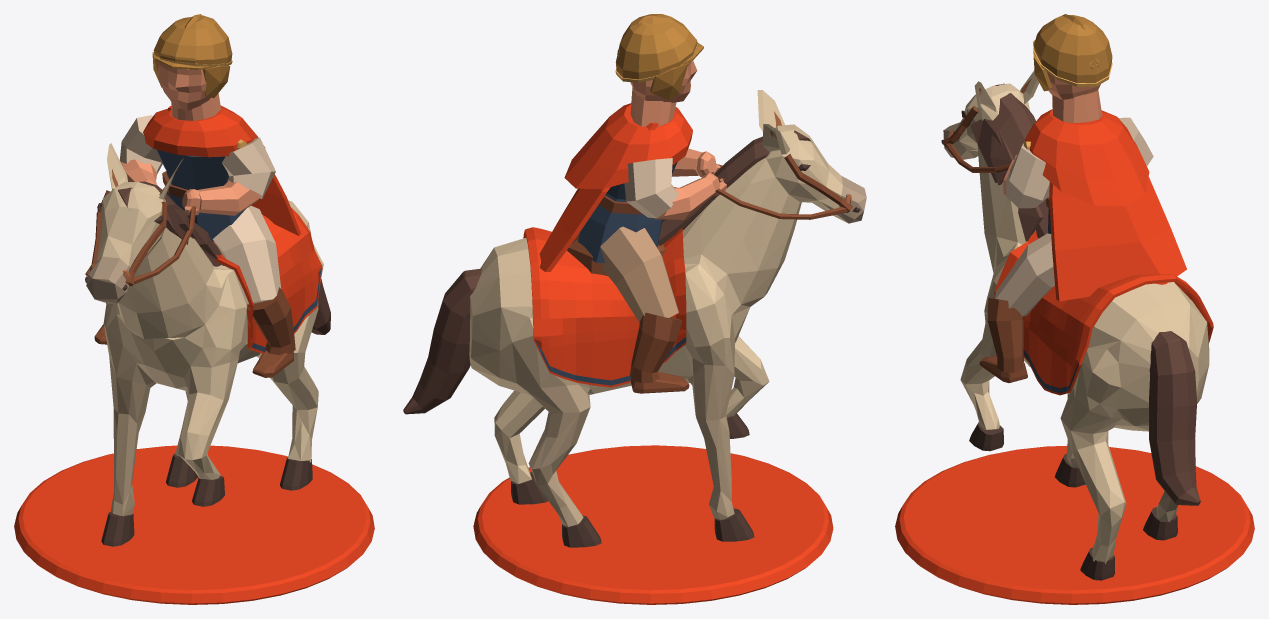
File: horseman.glb
3 renders of one model, left to right at view 1: azimuth 30°, elevation 25°; view 2: azimuth 150°, elevation 25°; view 3: azimuth 270°, elevation 25°, orthographic.
Visible parts, largest first — view 1: Horseman; view 2: Horseman; view 3: Horseman.
Boxes of the visible parts, x1,y1,x2,y2 form: Horseman: (14, 14, 374, 604); Horseman: (403, 14, 866, 604); Horseman: (895, 14, 1254, 604).
Bounding box in the file's own units: 1.21 × 1.7 × 1.08.
